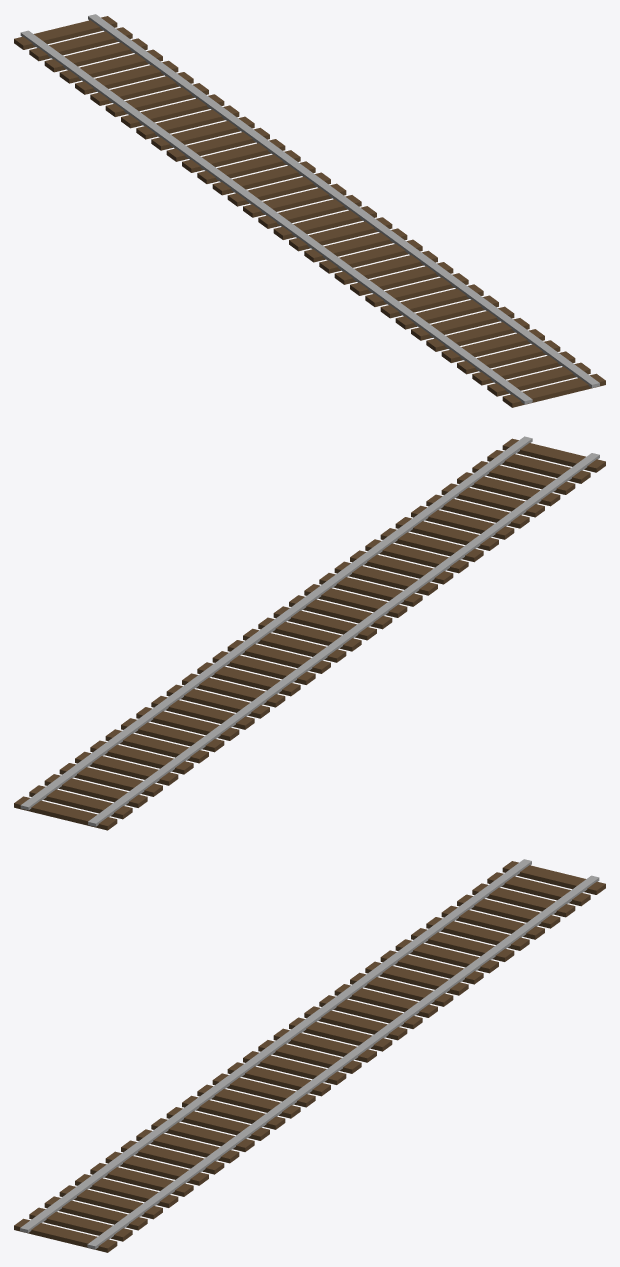
Rendered from track.fbx.
The picture shows the model from 3 angles, top to bottom: view 1: azimuth 30°, elevation 25°; view 2: azimuth 150°, elevation 25°; view 3: azimuth 330°, elevation 25°; orthographic projection.
Visible parts, largest first — view 1: track; view 2: track; view 3: track.
Part boxes in pixels (x1=…): track: x1=14, y1=14, x2=605, y2=407; track: x1=14, y1=436, x2=605, y2=830; track: x1=14, y1=859, x2=605, y2=1252.
Bounding box in the file's own units: 218 × 14.55 × 2027.
